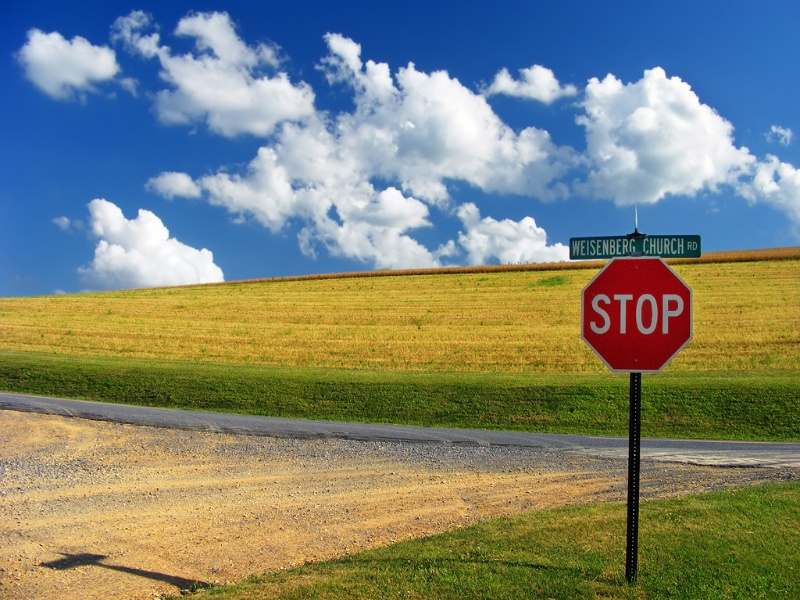stop: (579, 255, 693, 375)
